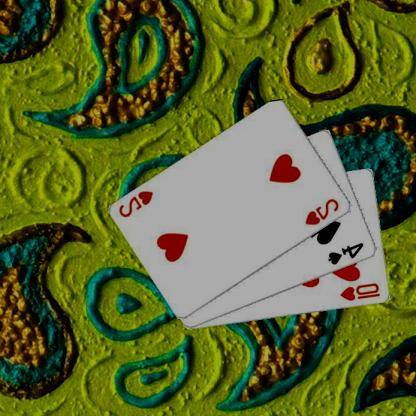10H: (340, 280, 383, 302)
2H: (118, 188, 157, 219), (304, 196, 342, 226)
4S: (327, 240, 367, 266)
